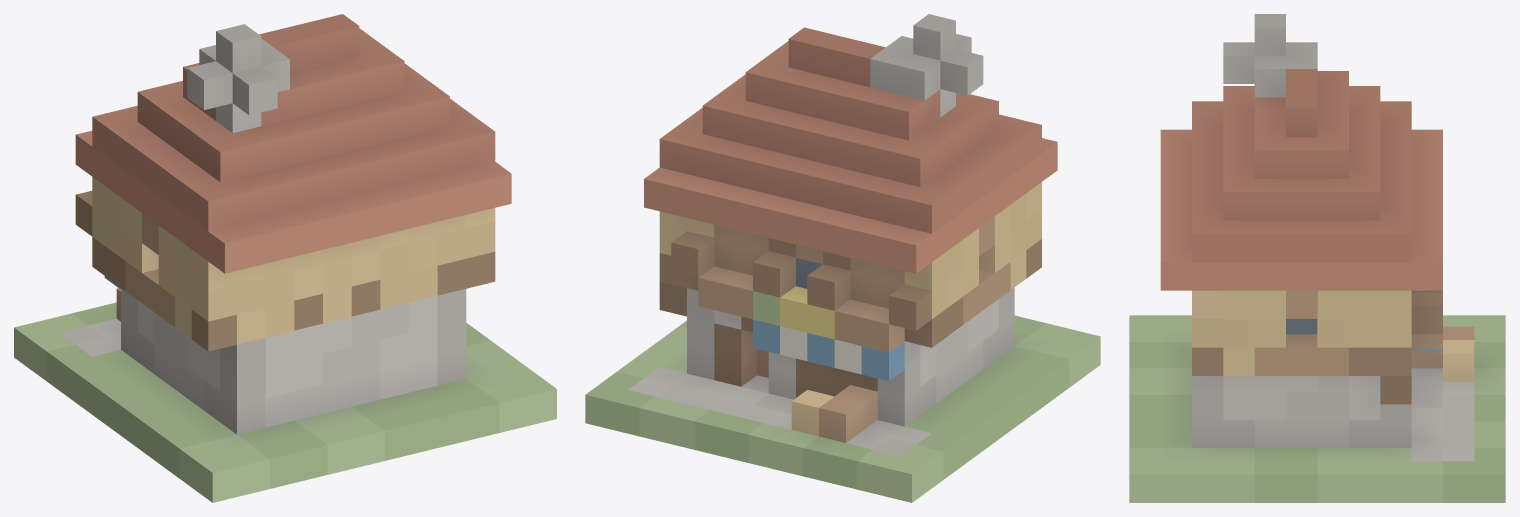
Rendered from house_citizens.v2.lite.glb.
3 renders of one model, left to right at view 1: azimuth 30°, elevation 25°; view 2: azimuth 150°, elevation 25°; view 3: azimuth 270°, elevation 25°, orthographic. The views are drawn at different scales.
Parts seen in each view (by area): view 1: house_citizens; view 2: house_citizens; view 3: house_citizens.
Boxes of the visible parts, bbox=[...] form: house_citizens: bbox=[14, 14, 556, 502]; house_citizens: bbox=[585, 14, 1100, 502]; house_citizens: bbox=[1129, 14, 1505, 502].
Bounding box in the file's own units: 3 × 3.25 × 3.
